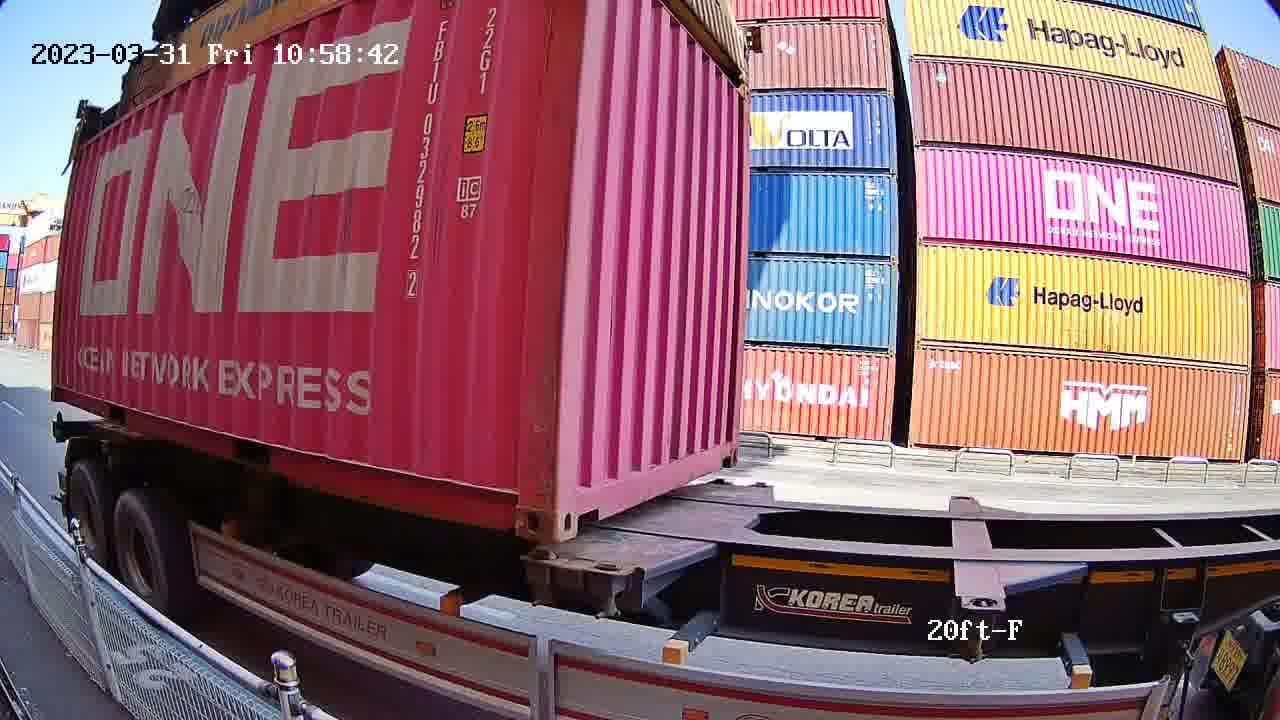Chassis: (589, 482, 774, 574), (531, 480, 727, 562)
Cone: (586, 560, 631, 621), (519, 548, 561, 610)
Hole_L: (557, 462, 606, 543)
Hole_R: (491, 469, 555, 545), (714, 426, 742, 472)
Tire: (114, 497, 170, 619), (65, 465, 110, 572)
